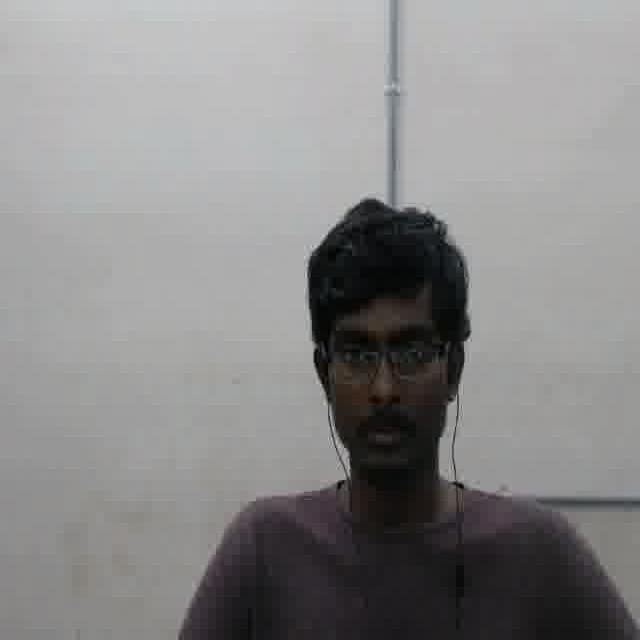Engaged: (325, 281, 443, 480)
